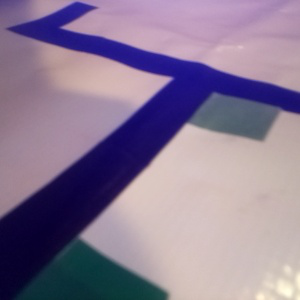bottom_right: (163, 86, 281, 141)
top_right: (1, 220, 168, 299)
